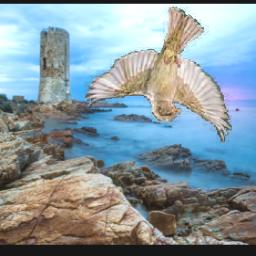Sparrow: (83, 8, 231, 144)
